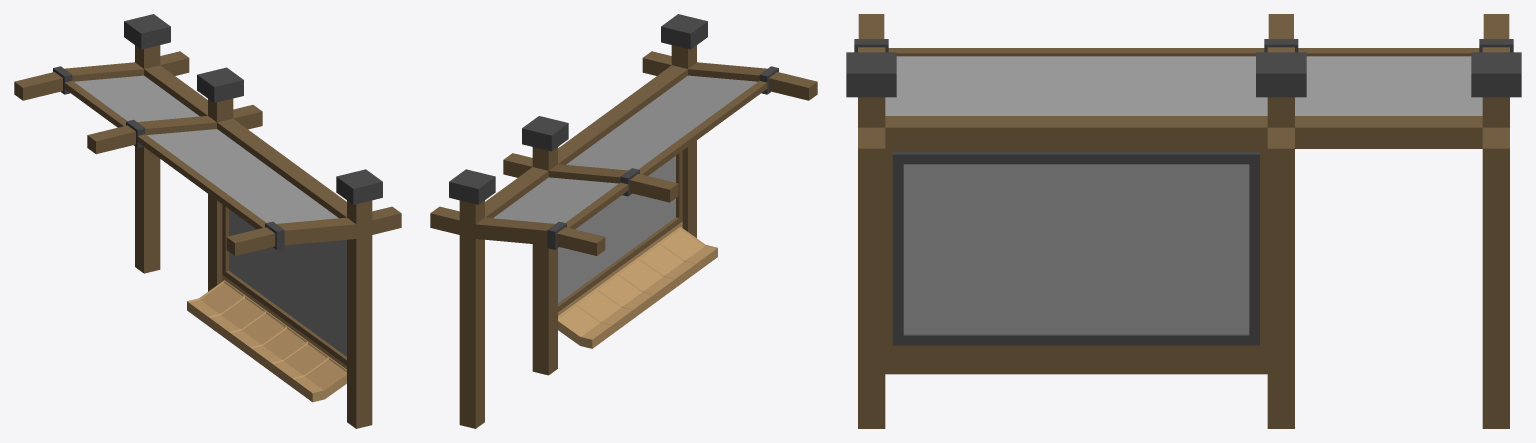
The model's file is Bus Shelter.fbx.
The picture shows the model from 3 angles, left to right: view 1: azimuth 30°, elevation 25°; view 2: azimuth 150°, elevation 25°; view 3: azimuth 270°, elevation 25°; orthographic projection. The views are drawn at different scales.
Visible parts, largest first — view 1: Bus Shelter; view 2: Bus Shelter; view 3: Bus Shelter.
Boxes of the visible parts, bbox=[...] form: Bus Shelter: bbox=[14, 14, 401, 428]; Bus Shelter: bbox=[430, 14, 817, 428]; Bus Shelter: bbox=[846, 14, 1521, 428].
Size of the model in its own units: 3.51 by 8.39 by 4.93.
